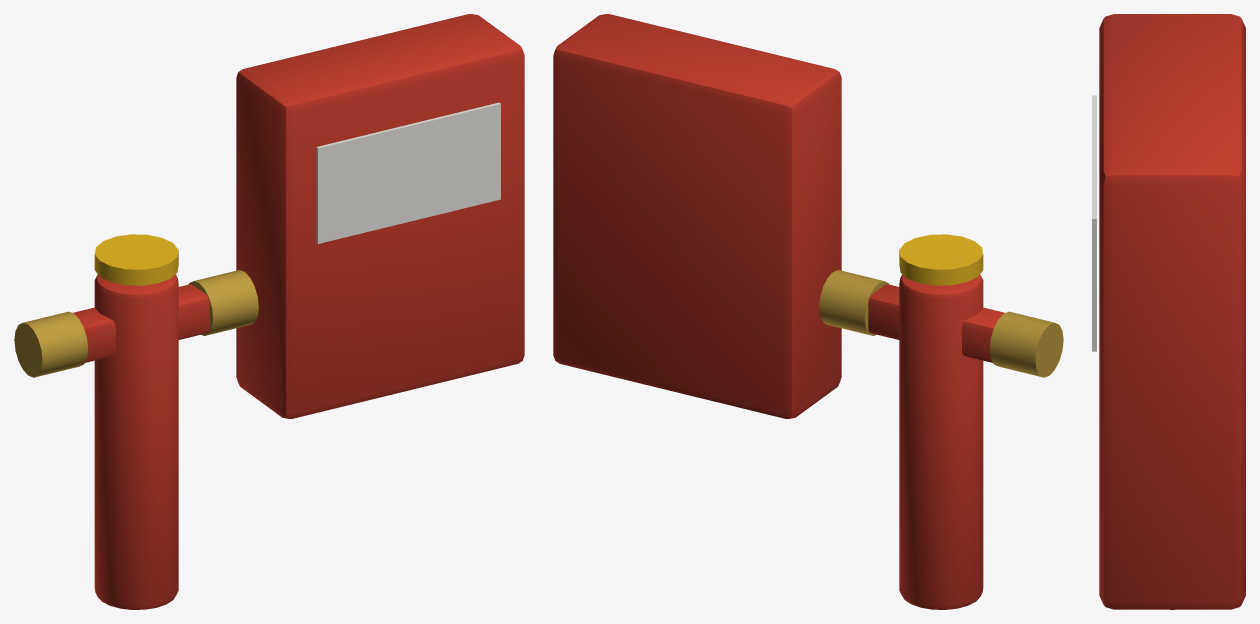
File: hydrant.glb
3 renders of one model, left to right at view 1: azimuth 30°, elevation 25°; view 2: azimuth 150°, elevation 25°; view 3: azimuth 270°, elevation 25°, orthographic. The views are drawn at different scales.
Parts seen in each view (by area): view 1: hydrant; view 2: hydrant; view 3: hydrant.
Boxes of the visible parts, box(x1,y1,x2,y2) form: hydrant: box(14, 14, 524, 609); hydrant: box(553, 14, 1063, 609); hydrant: box(1092, 14, 1245, 609).
Bounding box in the file's own units: 1.56 × 1.5 × 0.315.
